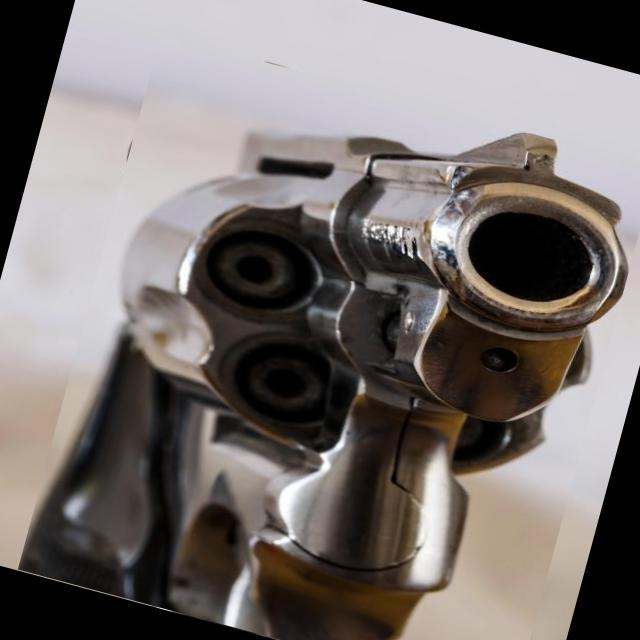Gun: (18, 134, 628, 640)
